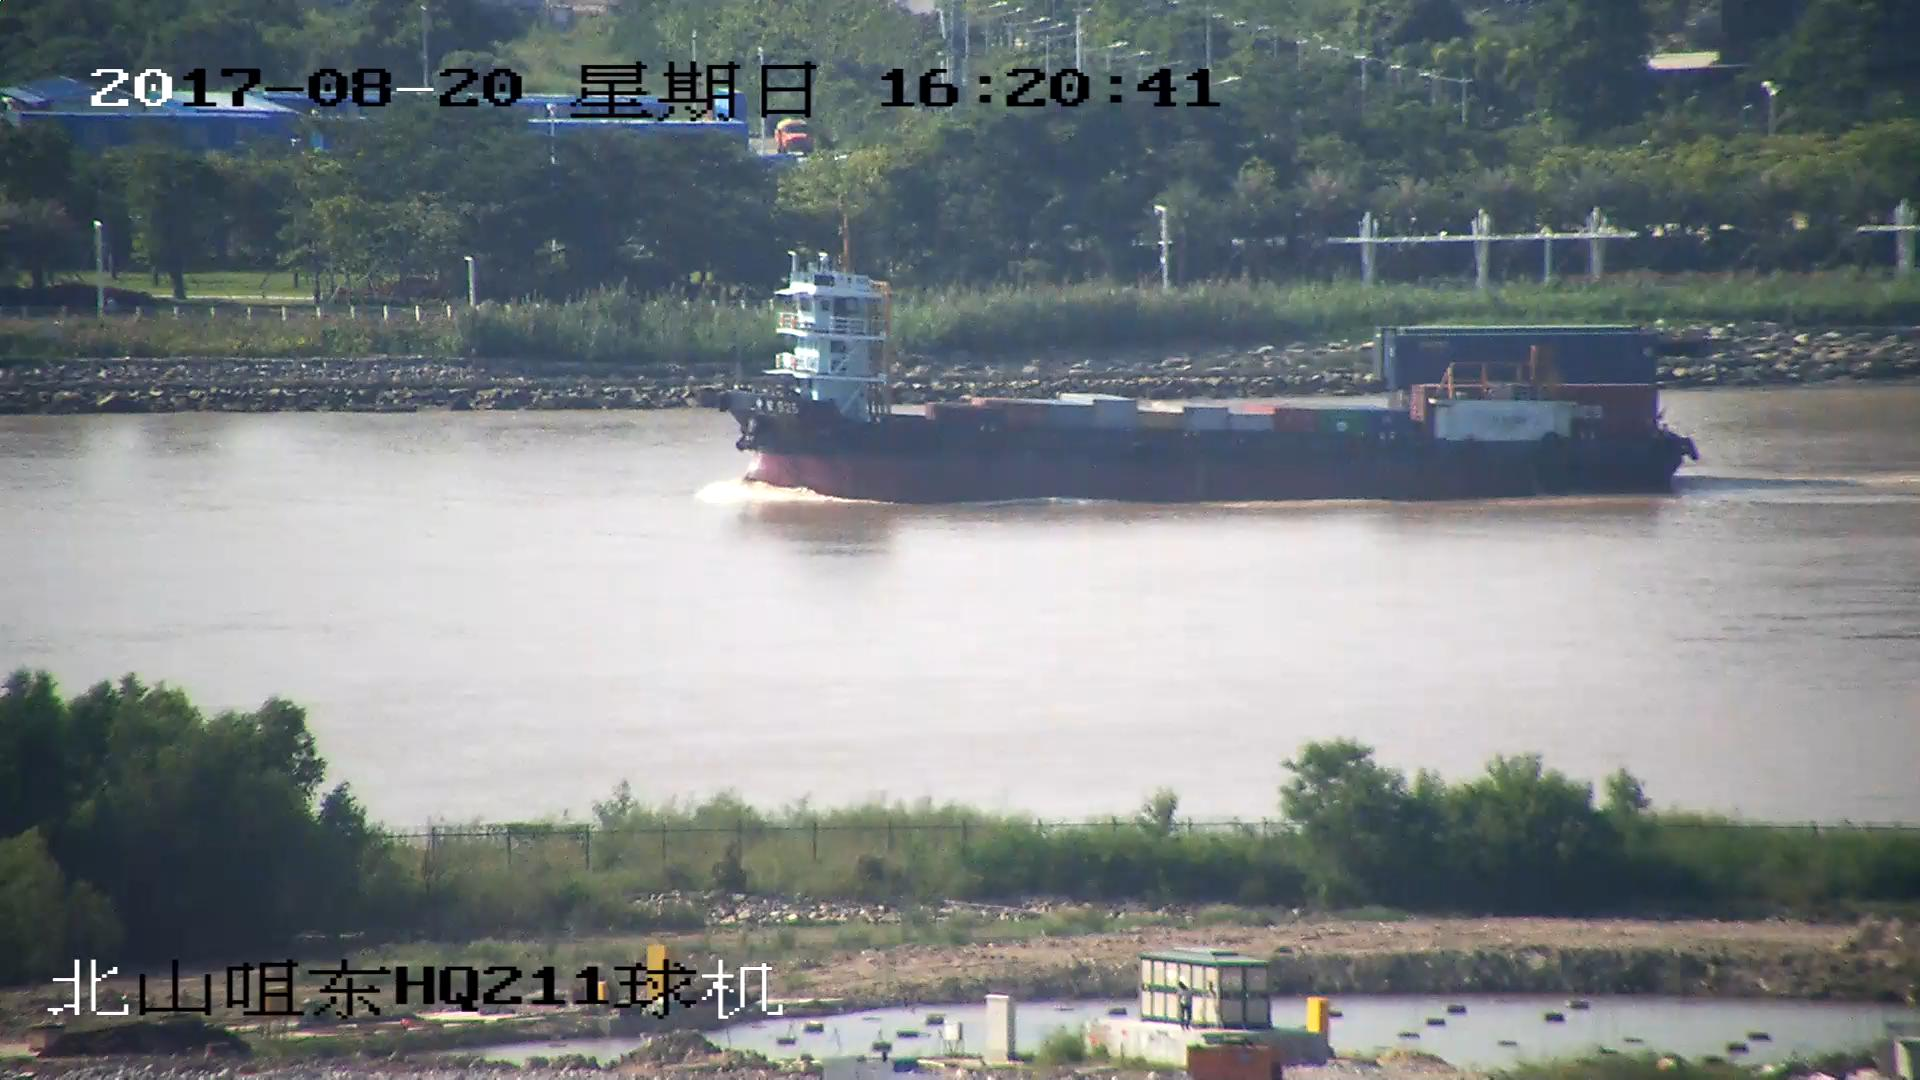container ship: (750, 254, 1697, 498)
